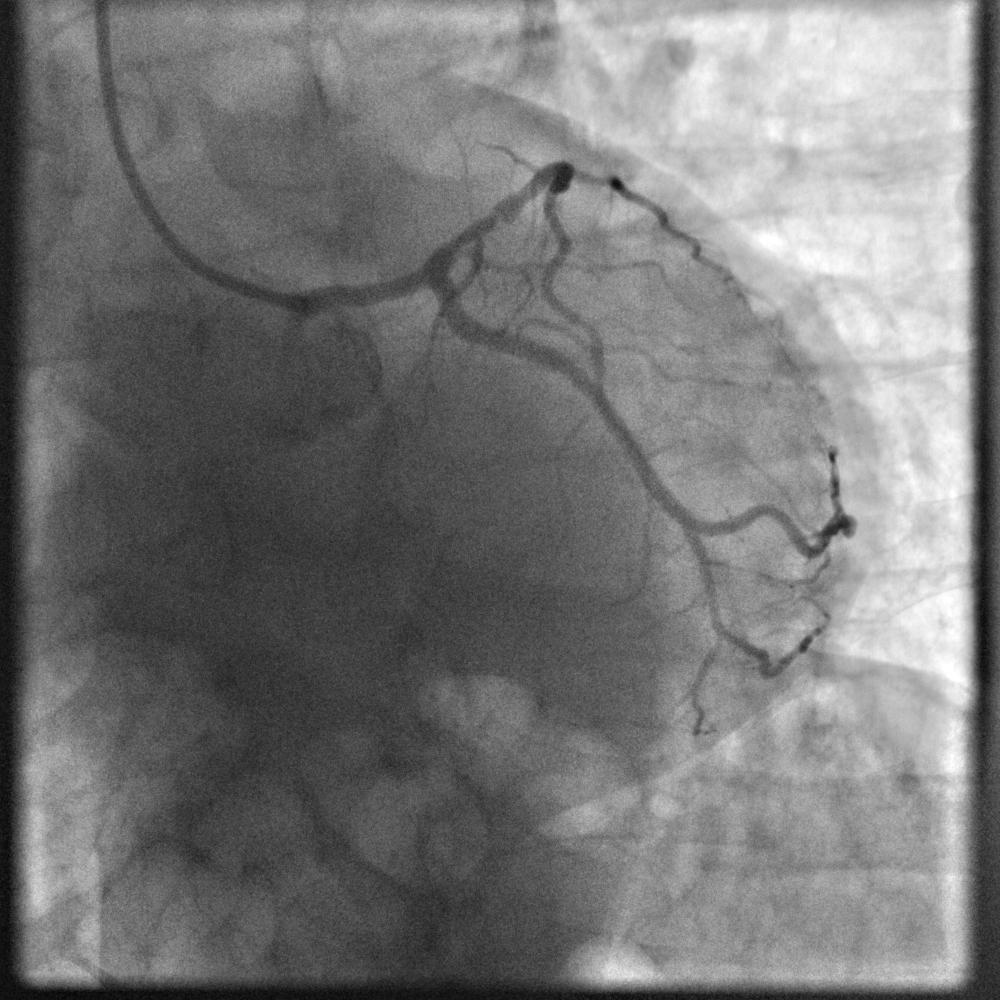Stenosis: (485, 207, 506, 228)
